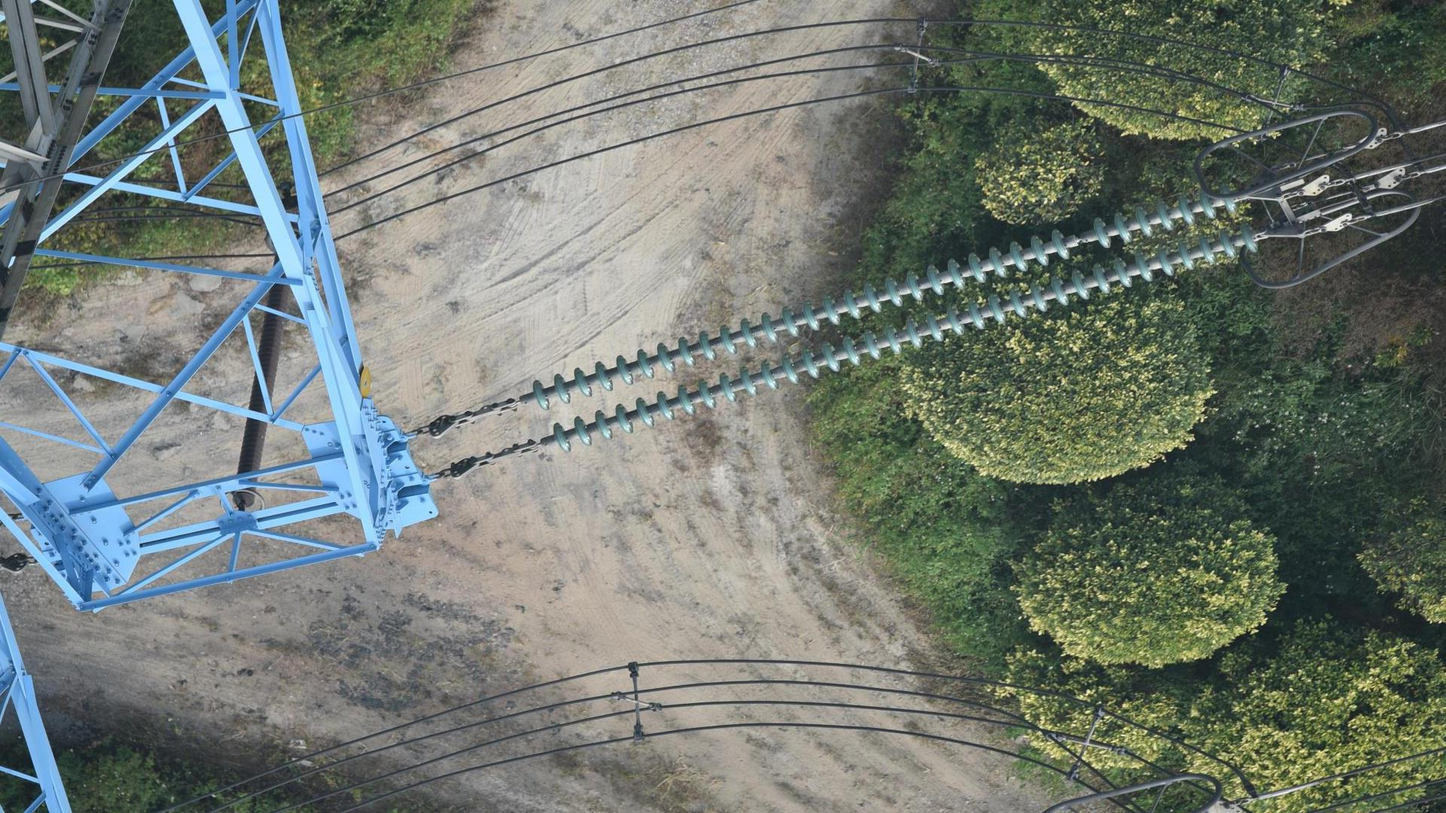insulator: (528, 176, 1268, 455), (228, 276, 293, 508)
insulator_stringdrop: (1048, 215, 1114, 264)
